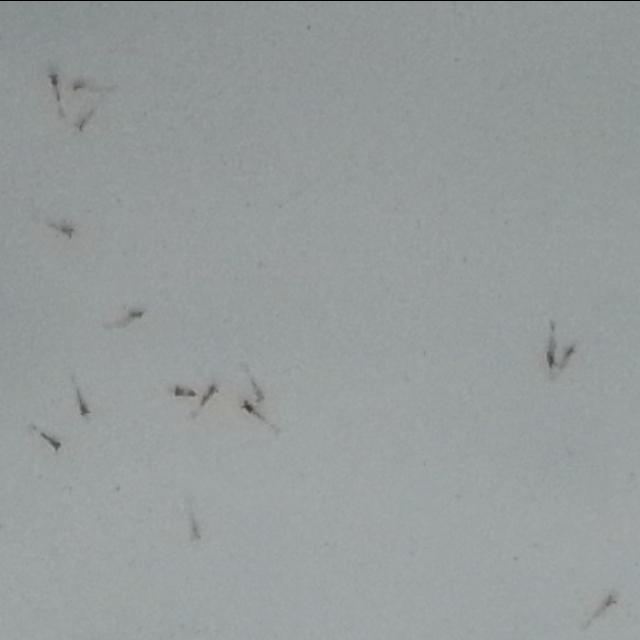shrimp-seed: (72, 388, 96, 419), (38, 428, 68, 452), (597, 589, 619, 617), (118, 302, 146, 324), (542, 340, 562, 370), (249, 377, 269, 405), (170, 379, 196, 400), (188, 519, 208, 543), (46, 66, 62, 95), (202, 380, 220, 405), (53, 220, 76, 238), (70, 77, 92, 95), (238, 396, 256, 416), (562, 341, 578, 363), (76, 112, 92, 132)
